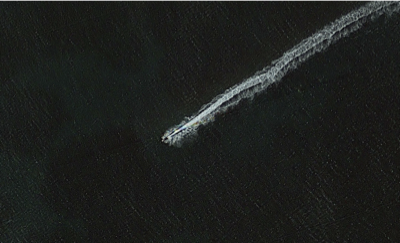boat: (160, 136, 170, 144)
